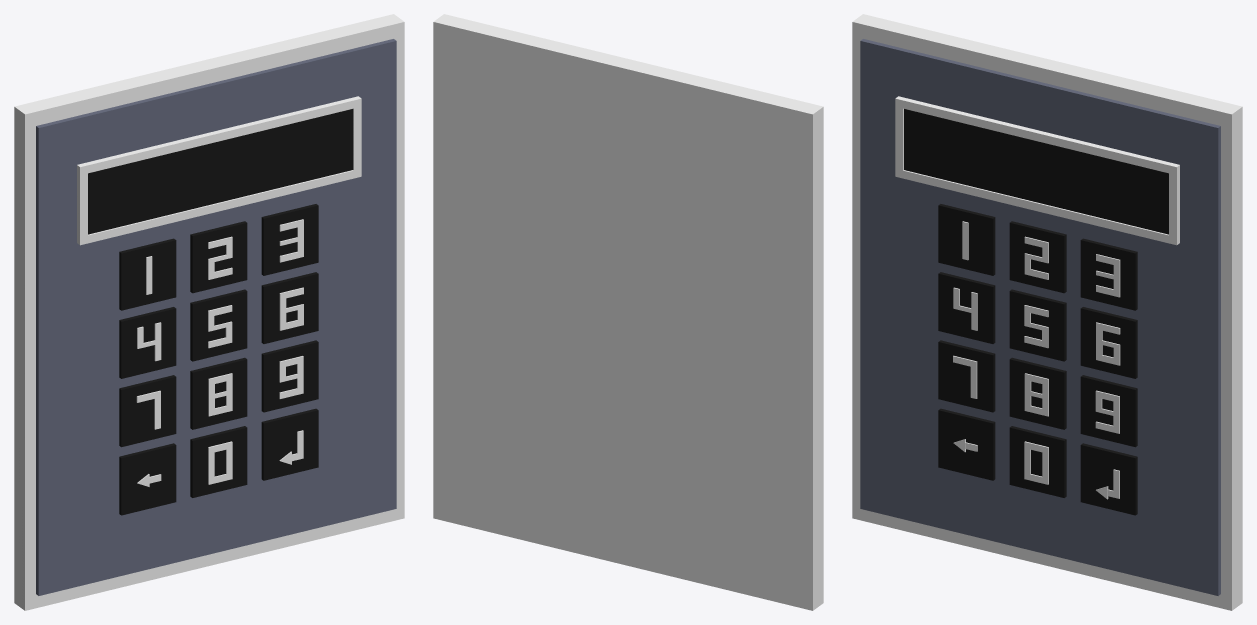
Rendered from numpad.fbx.
3 views of the same model, side by side, from view 1: azimuth 30°, elevation 25°; view 2: azimuth 150°, elevation 25°; view 3: azimuth 330°, elevation 25° (orthographic).
Visible parts, largest first — view 1: Placca2, Tastiera, Placca, Schermo, Bordo_schermo, 8, 6, 0, 9, 5, 3, 2; view 2: Placca; view 3: Placca2, Tastiera, Placca, Schermo, Bordo_schermo, 8, 6, 9, 0, 3, 2, 5.
Part boxes in pixels (x1=…): Placca2: x1=36, y1=39, x2=396, y2=595; Tastiera: x1=119, y1=204, x2=318, y2=515; Placca: x1=14, y1=14, x2=404, y2=610; Schermo: x1=88, y1=109, x2=352, y2=234; Bordo_schermo: x1=77, y1=96, x2=361, y2=245; 8: x1=208, y1=373, x2=232, y2=416; 6: x1=279, y1=287, x2=303, y2=330; 0: x1=208, y1=441, x2=232, y2=484; 9: x1=279, y1=356, x2=303, y2=398; 5: x1=208, y1=305, x2=232, y2=348; 3: x1=279, y1=219, x2=303, y2=262; 2: x1=208, y1=236, x2=232, y2=279; Placca: x1=433, y1=14, x2=823, y2=610; Placca2: x1=860, y1=39, x2=1220, y2=595; Tastiera: x1=938, y1=204, x2=1137, y2=515; Placca: x1=852, y1=14, x2=1242, y2=610; Schermo: x1=904, y1=109, x2=1168, y2=234; Bordo_schermo: x1=895, y1=96, x2=1179, y2=245; 8: x1=1024, y1=373, x2=1048, y2=416; 6: x1=1096, y1=322, x2=1120, y2=365; 9: x1=1095, y1=390, x2=1119, y2=433; 0: x1=1024, y1=441, x2=1048, y2=484; 3: x1=1096, y1=254, x2=1120, y2=297; 2: x1=1024, y1=236, x2=1048, y2=279; 5: x1=1024, y1=305, x2=1048, y2=348.
Size of the model in its own units: 64 by 80 by 4.91.
